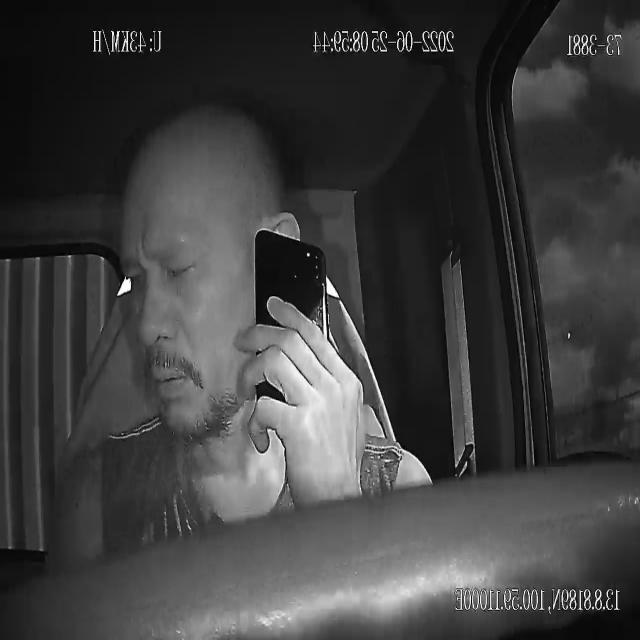phone: (253, 228, 330, 446)
